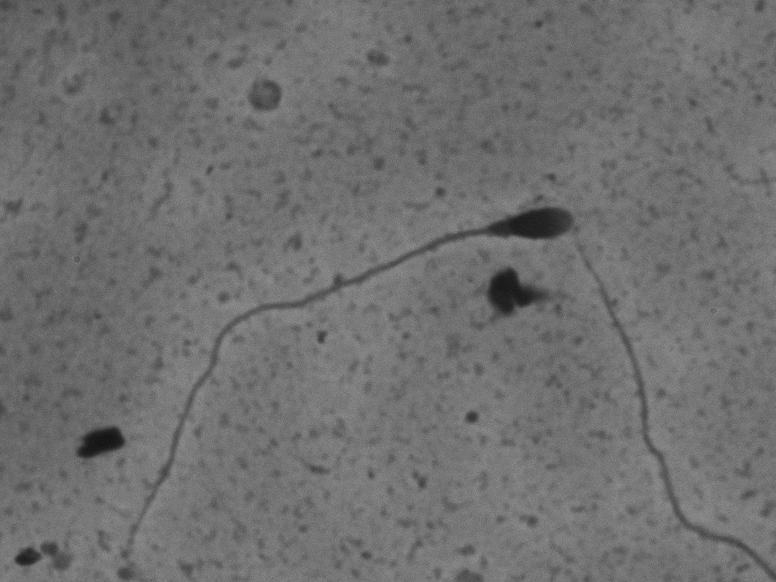Abnormal: (107, 194, 592, 569)
